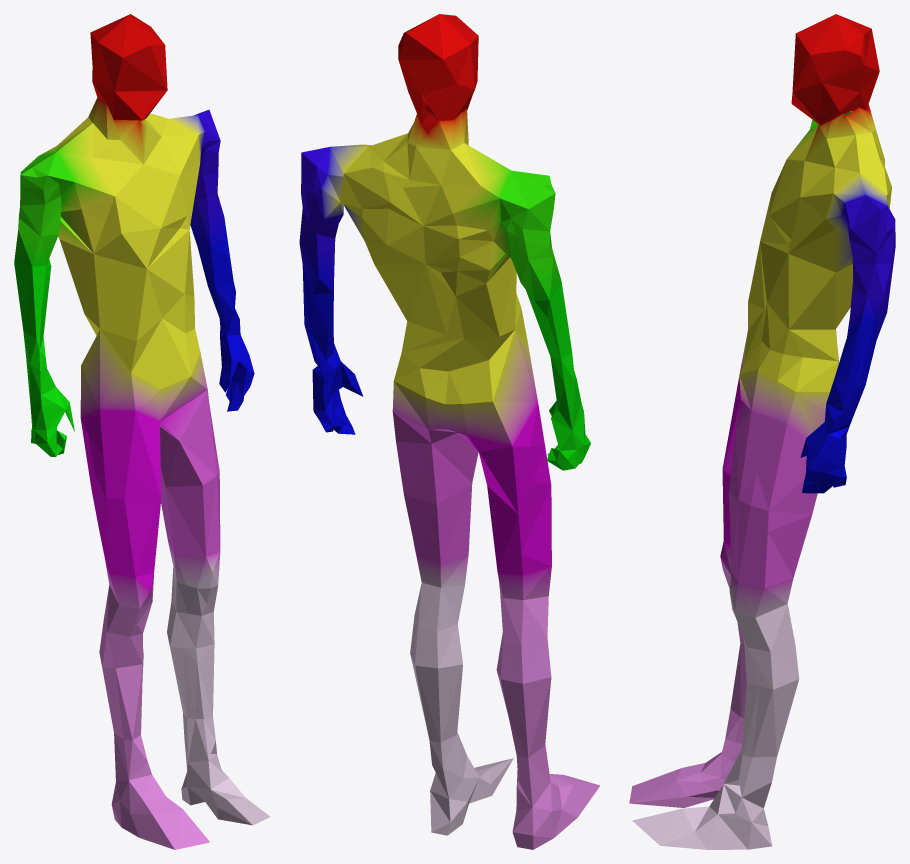
Rendered from SuperHotColored.obj.
3 renders of one model, left to right at view 1: azimuth 30°, elevation 25°; view 2: azimuth 150°, elevation 25°; view 3: azimuth 270°, elevation 25°, orthographic. The views are drawn at different scales.
Visible parts, largest first — view 1: obj1.001; view 2: obj1.001; view 3: obj1.001.
Boxes of the visible parts, x1=… form: obj1.001: x1=14, y1=14, x2=270, y2=849; obj1.001: x1=299, y1=14, x2=600, y2=849; obj1.001: x1=629, y1=14, x2=895, y2=849.
Bounding box in the file's own units: 2.48 × 8.09 × 2.4.
